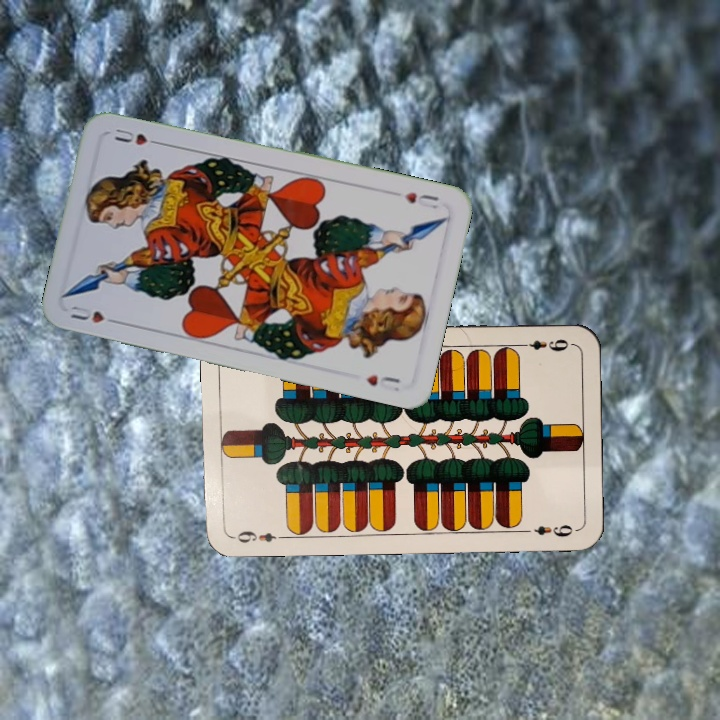E9: (515, 335, 574, 354), (228, 527, 287, 545)
HU: (67, 301, 123, 327), (400, 188, 441, 212)
